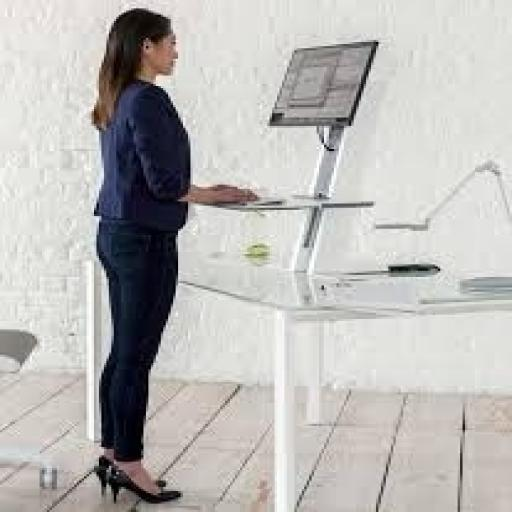sitting: (84, 4, 260, 506)
